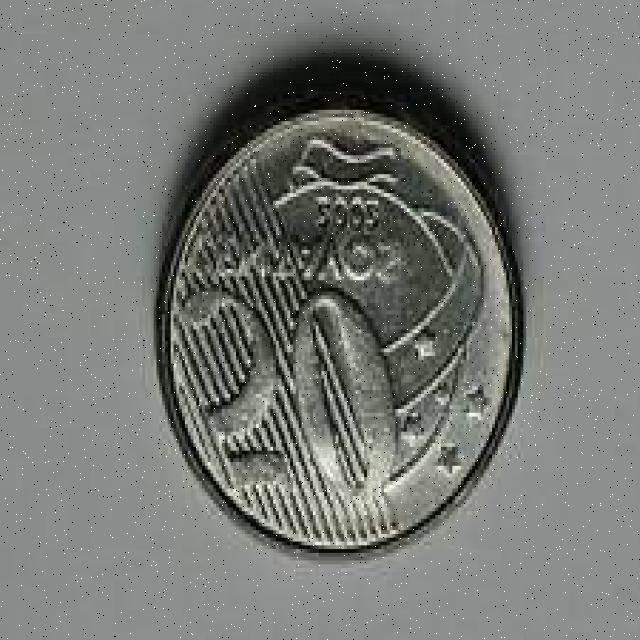50 cent: (155, 64, 528, 570)
